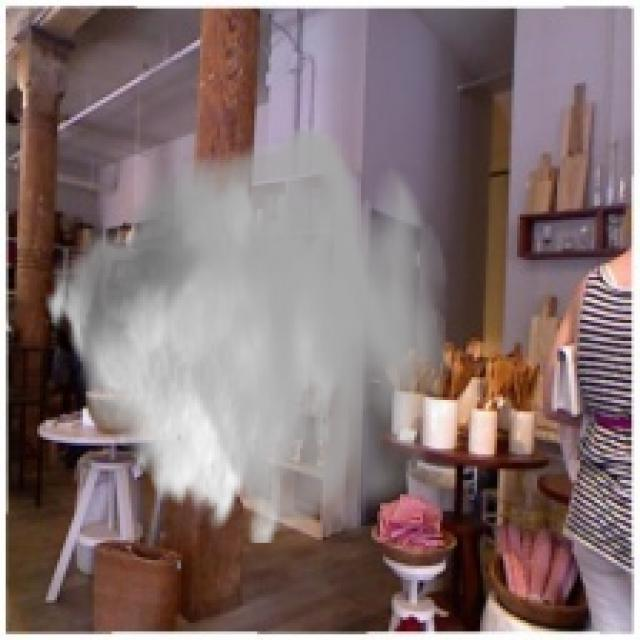Smoke: (42, 120, 452, 543)
